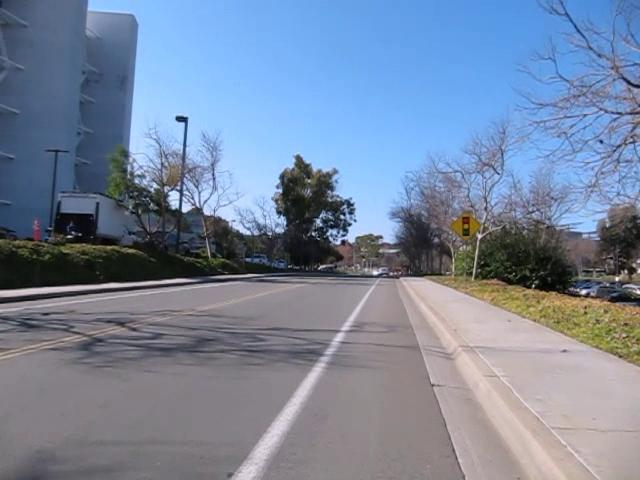signalAhead: (448, 209, 481, 241)
